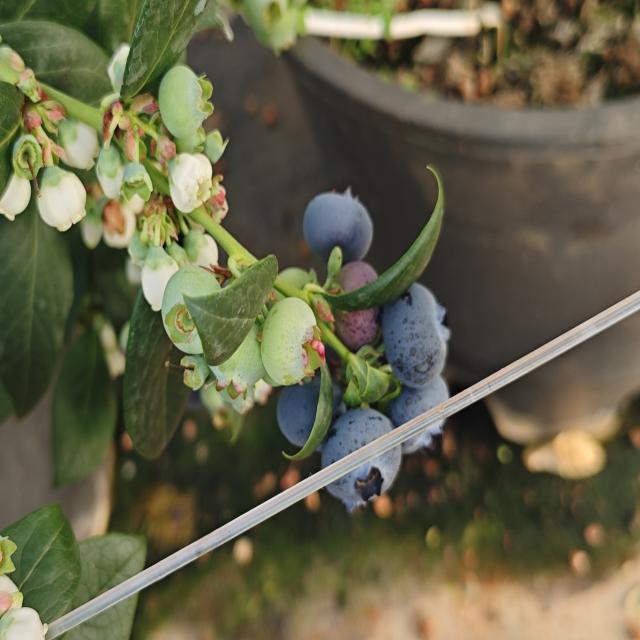ripe: (318, 405, 404, 512), (380, 281, 450, 391), (300, 187, 374, 267), (397, 382, 445, 446), (278, 384, 319, 436)
